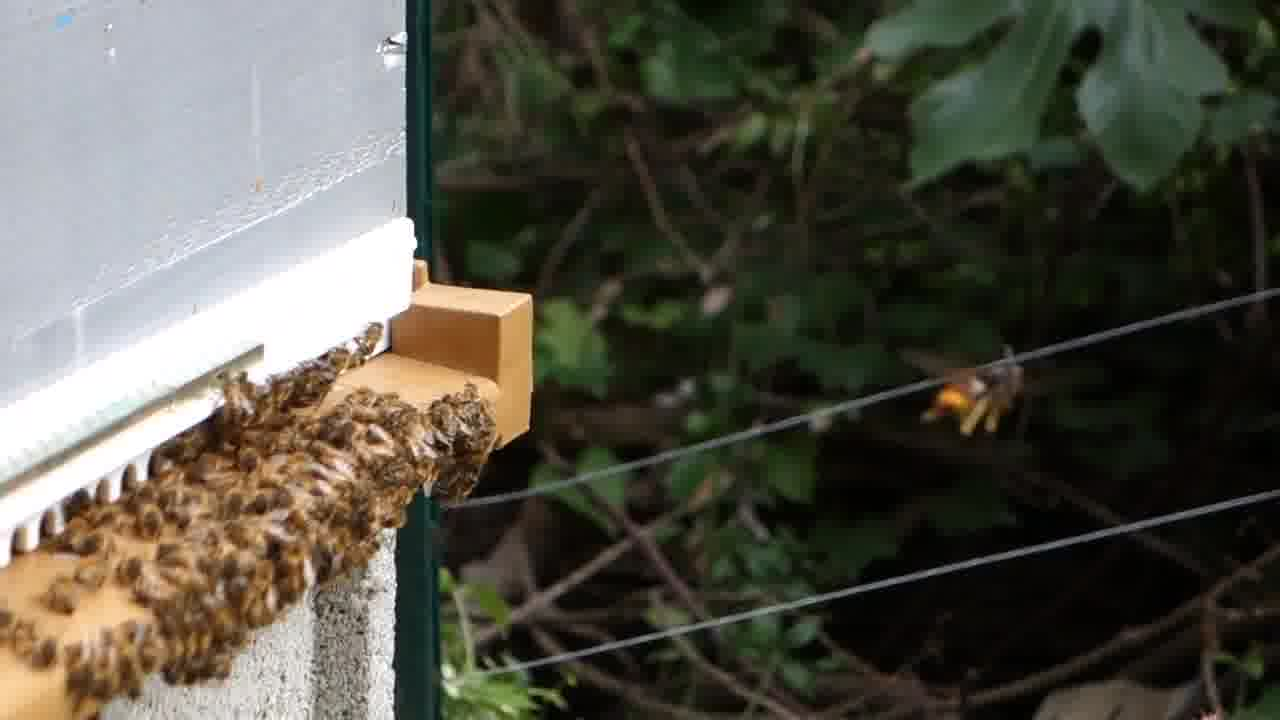bee: (82, 529, 379, 598), (76, 600, 258, 697), (167, 436, 342, 523), (348, 389, 450, 462), (351, 467, 429, 529), (281, 357, 342, 433), (212, 372, 276, 428), (452, 380, 505, 437), (356, 314, 408, 364)
hornet: (937, 350, 1036, 436)
